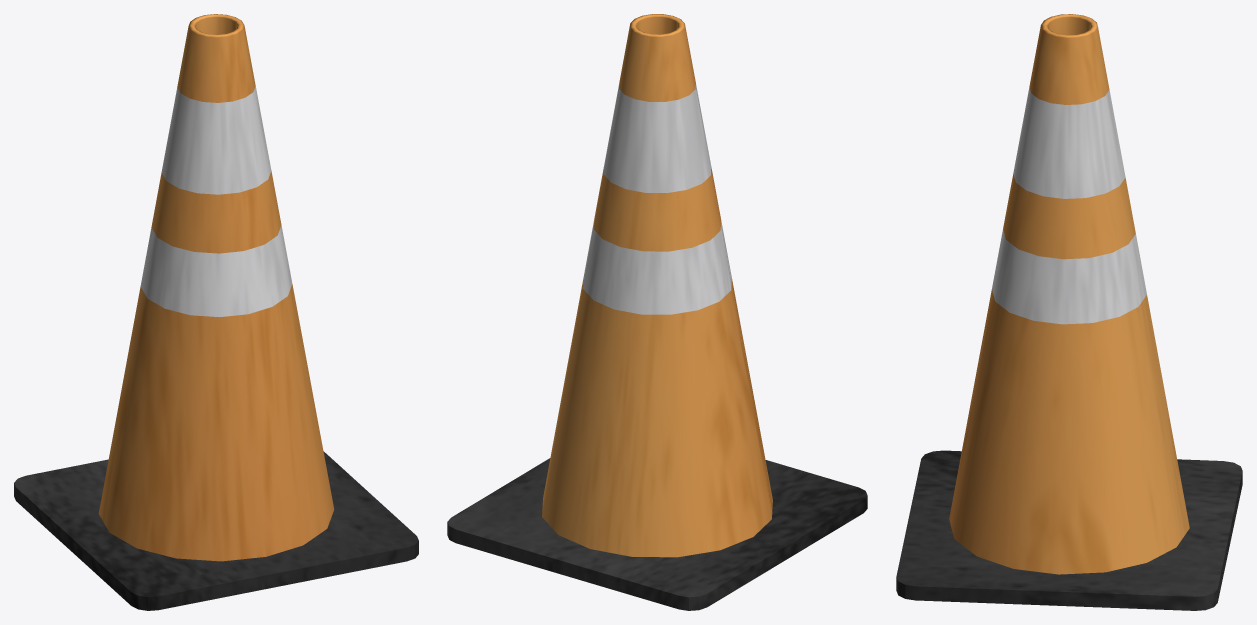
Rendered from ConeTraffic.fbx.
3 views of the same model, side by side, from view 1: azimuth 30°, elevation 25°; view 2: azimuth 150°, elevation 25°; view 3: azimuth 270°, elevation 25° (orthographic). The views are drawn at different scales.
Visible parts, largest first — view 1: ConeTraffic; view 2: ConeTraffic; view 3: ConeTraffic.
Boxes of the visible parts, x1,y1,x2,y2 form: ConeTraffic: [14, 14, 418, 610]; ConeTraffic: [447, 14, 867, 610]; ConeTraffic: [896, 14, 1242, 610].
Bounding box in the file's own units: 71.18 × 116 × 71.18.
